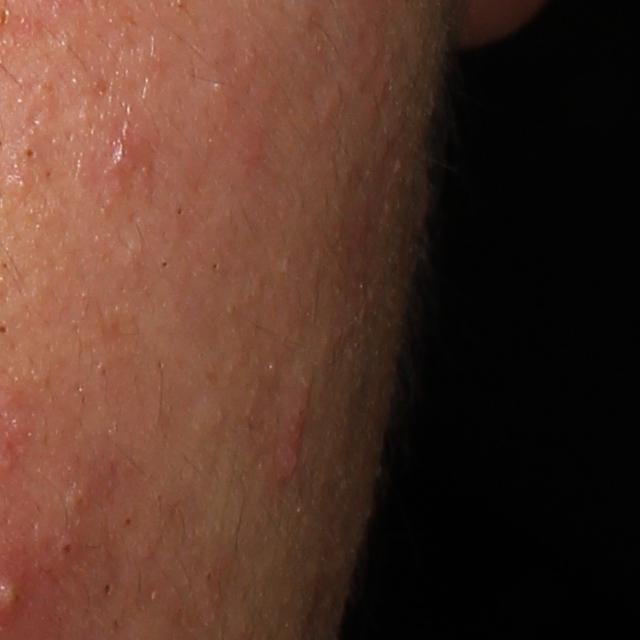comedo: (50, 475, 94, 517), (19, 136, 43, 170), (51, 538, 75, 565), (96, 580, 115, 607)
papule: (270, 404, 310, 484), (99, 133, 139, 182)
